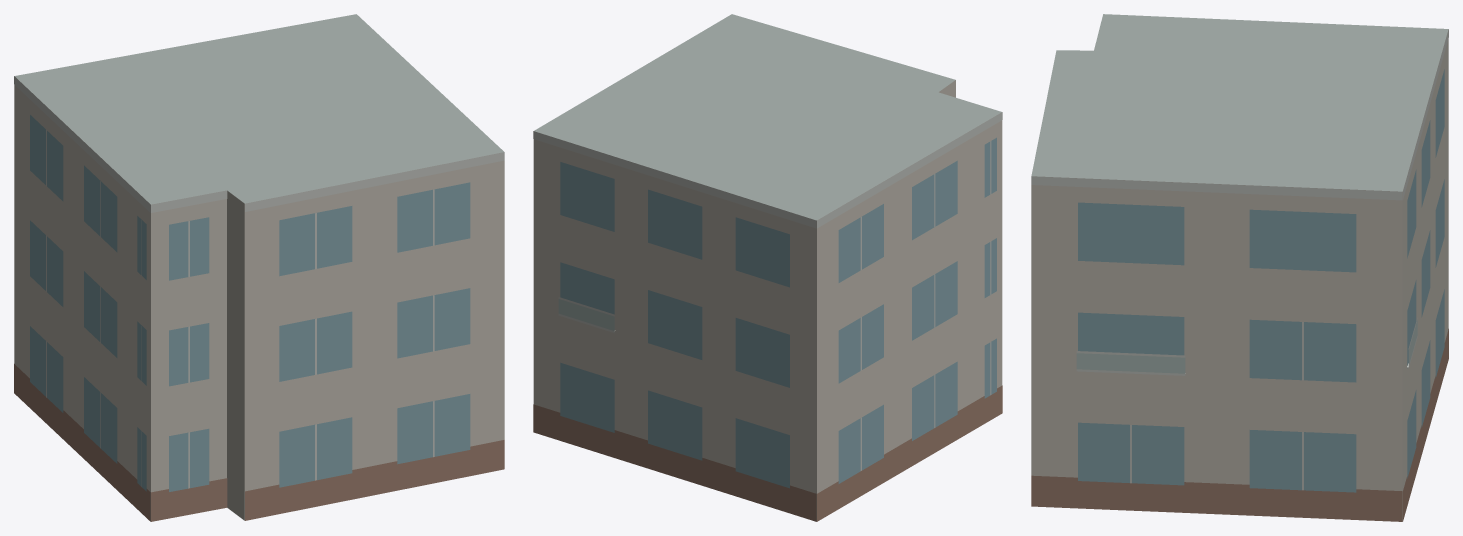
Rendered from survey-upis-32564255.glb.
3 renders of one model, left to right at view 1: azimuth 30°, elevation 25°; view 2: azimuth 150°, elevation 25°; view 3: azimuth 270°, elevation 25°, orthographic. The views are drawn at different scales.
Visible parts, largest first — view 1: survey-upis-32564255.tmp; view 2: survey-upis-32564255.tmp; view 3: survey-upis-32564255.tmp.
Boxes of the visible parts, x1,y1,x2,y2 form: survey-upis-32564255.tmp: (14, 14, 504, 521); survey-upis-32564255.tmp: (533, 14, 1002, 521); survey-upis-32564255.tmp: (1031, 14, 1448, 521).
Bounding box in the file's own units: 10.57 × 9.15 × 10.49.
